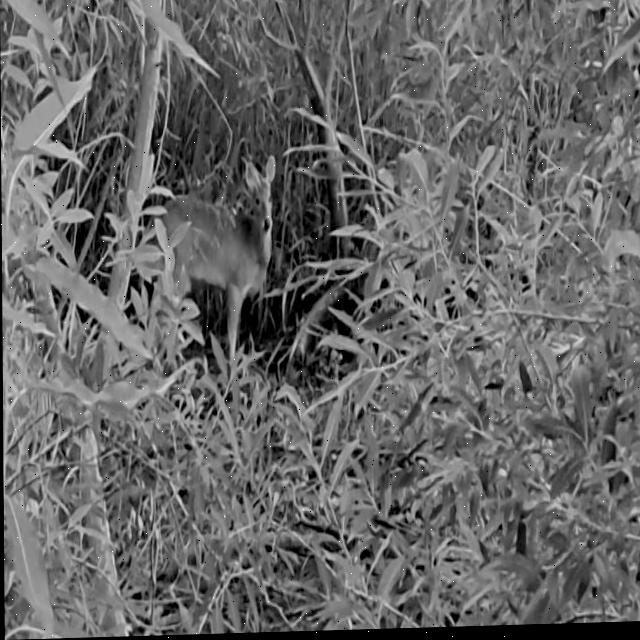Deer: (137, 142, 287, 389)
